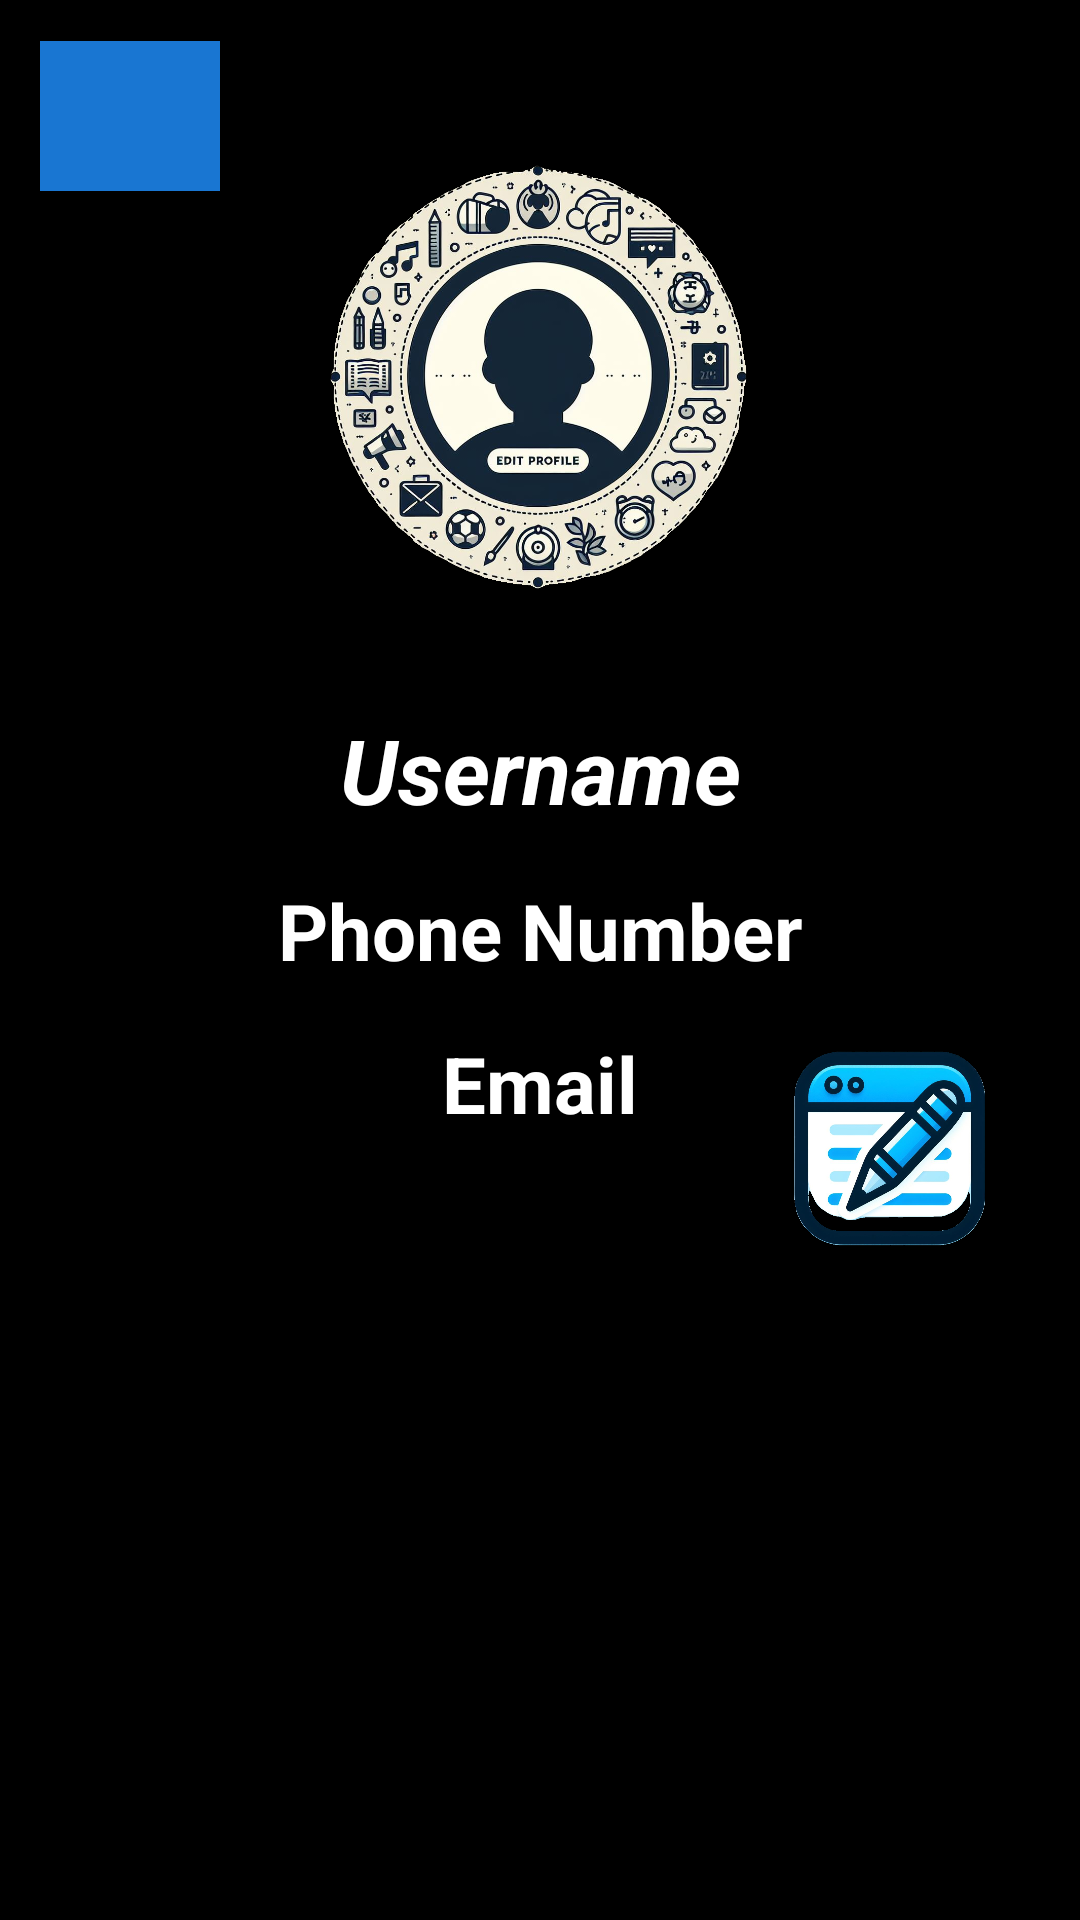

Screen size 1080*1920. Icon name, then its box in pixels as (x1, y1, x2, y2):
editacc: (794, 1052, 985, 1245)
